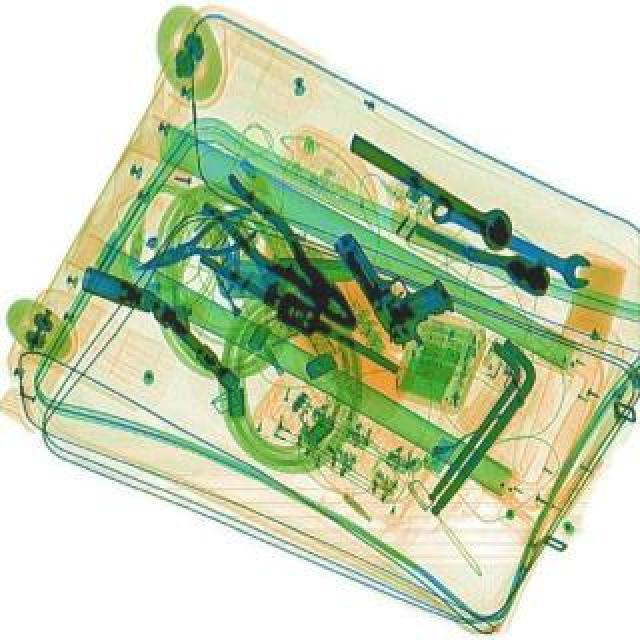gun: (324, 206, 468, 356)
scissors: (420, 188, 598, 292)
wrench: (194, 168, 376, 340), (120, 188, 272, 296)
